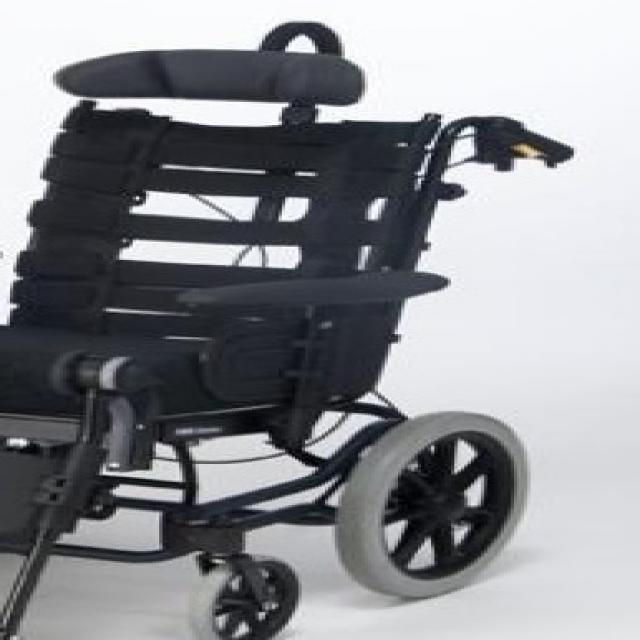wheelchair: (0, 18, 637, 640)
